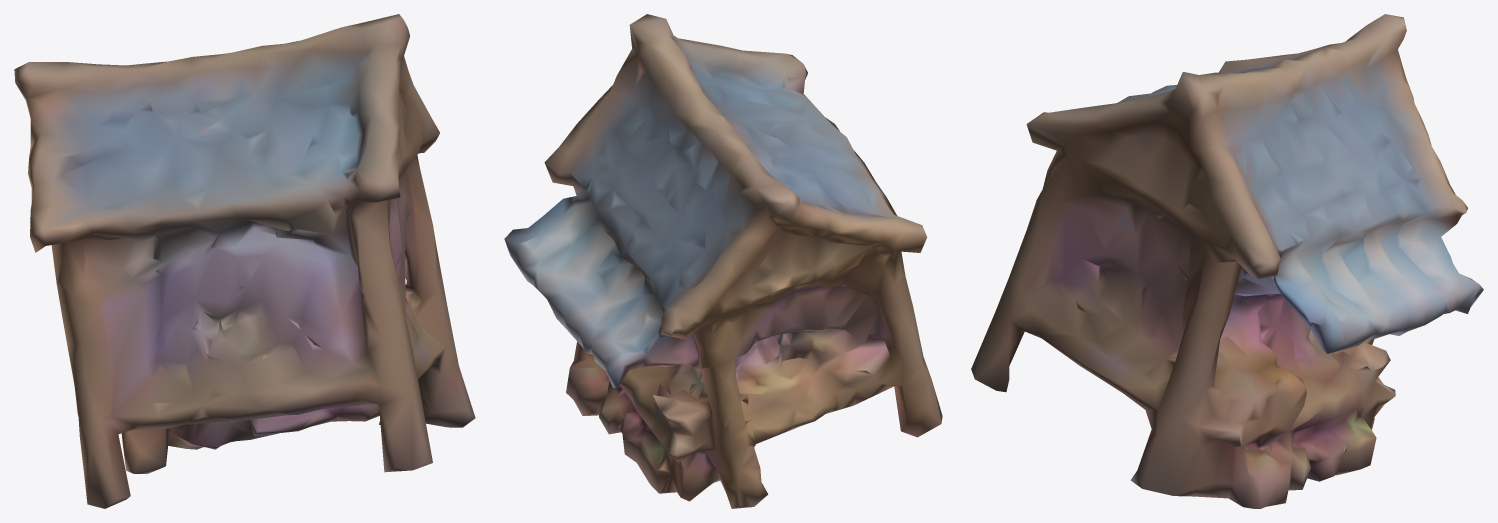
Rendered from banca_feira.glb.
The picture shows the model from 3 angles, left to right: view 1: azimuth 30°, elevation 25°; view 2: azimuth 150°, elevation 25°; view 3: azimuth 270°, elevation 25°; orthographic projection. The views are drawn at different scales.
Bounding box in the file's own units: 0.8816 × 0.9053 × 0.9448.
